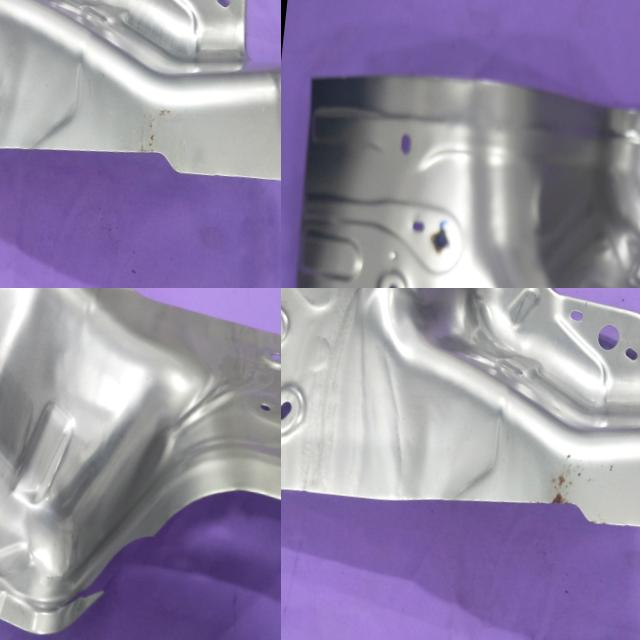Defect: (25, 503, 177, 640)
Healthy: (281, 57, 640, 288)
rust: (511, 450, 634, 526), (127, 94, 178, 175)
